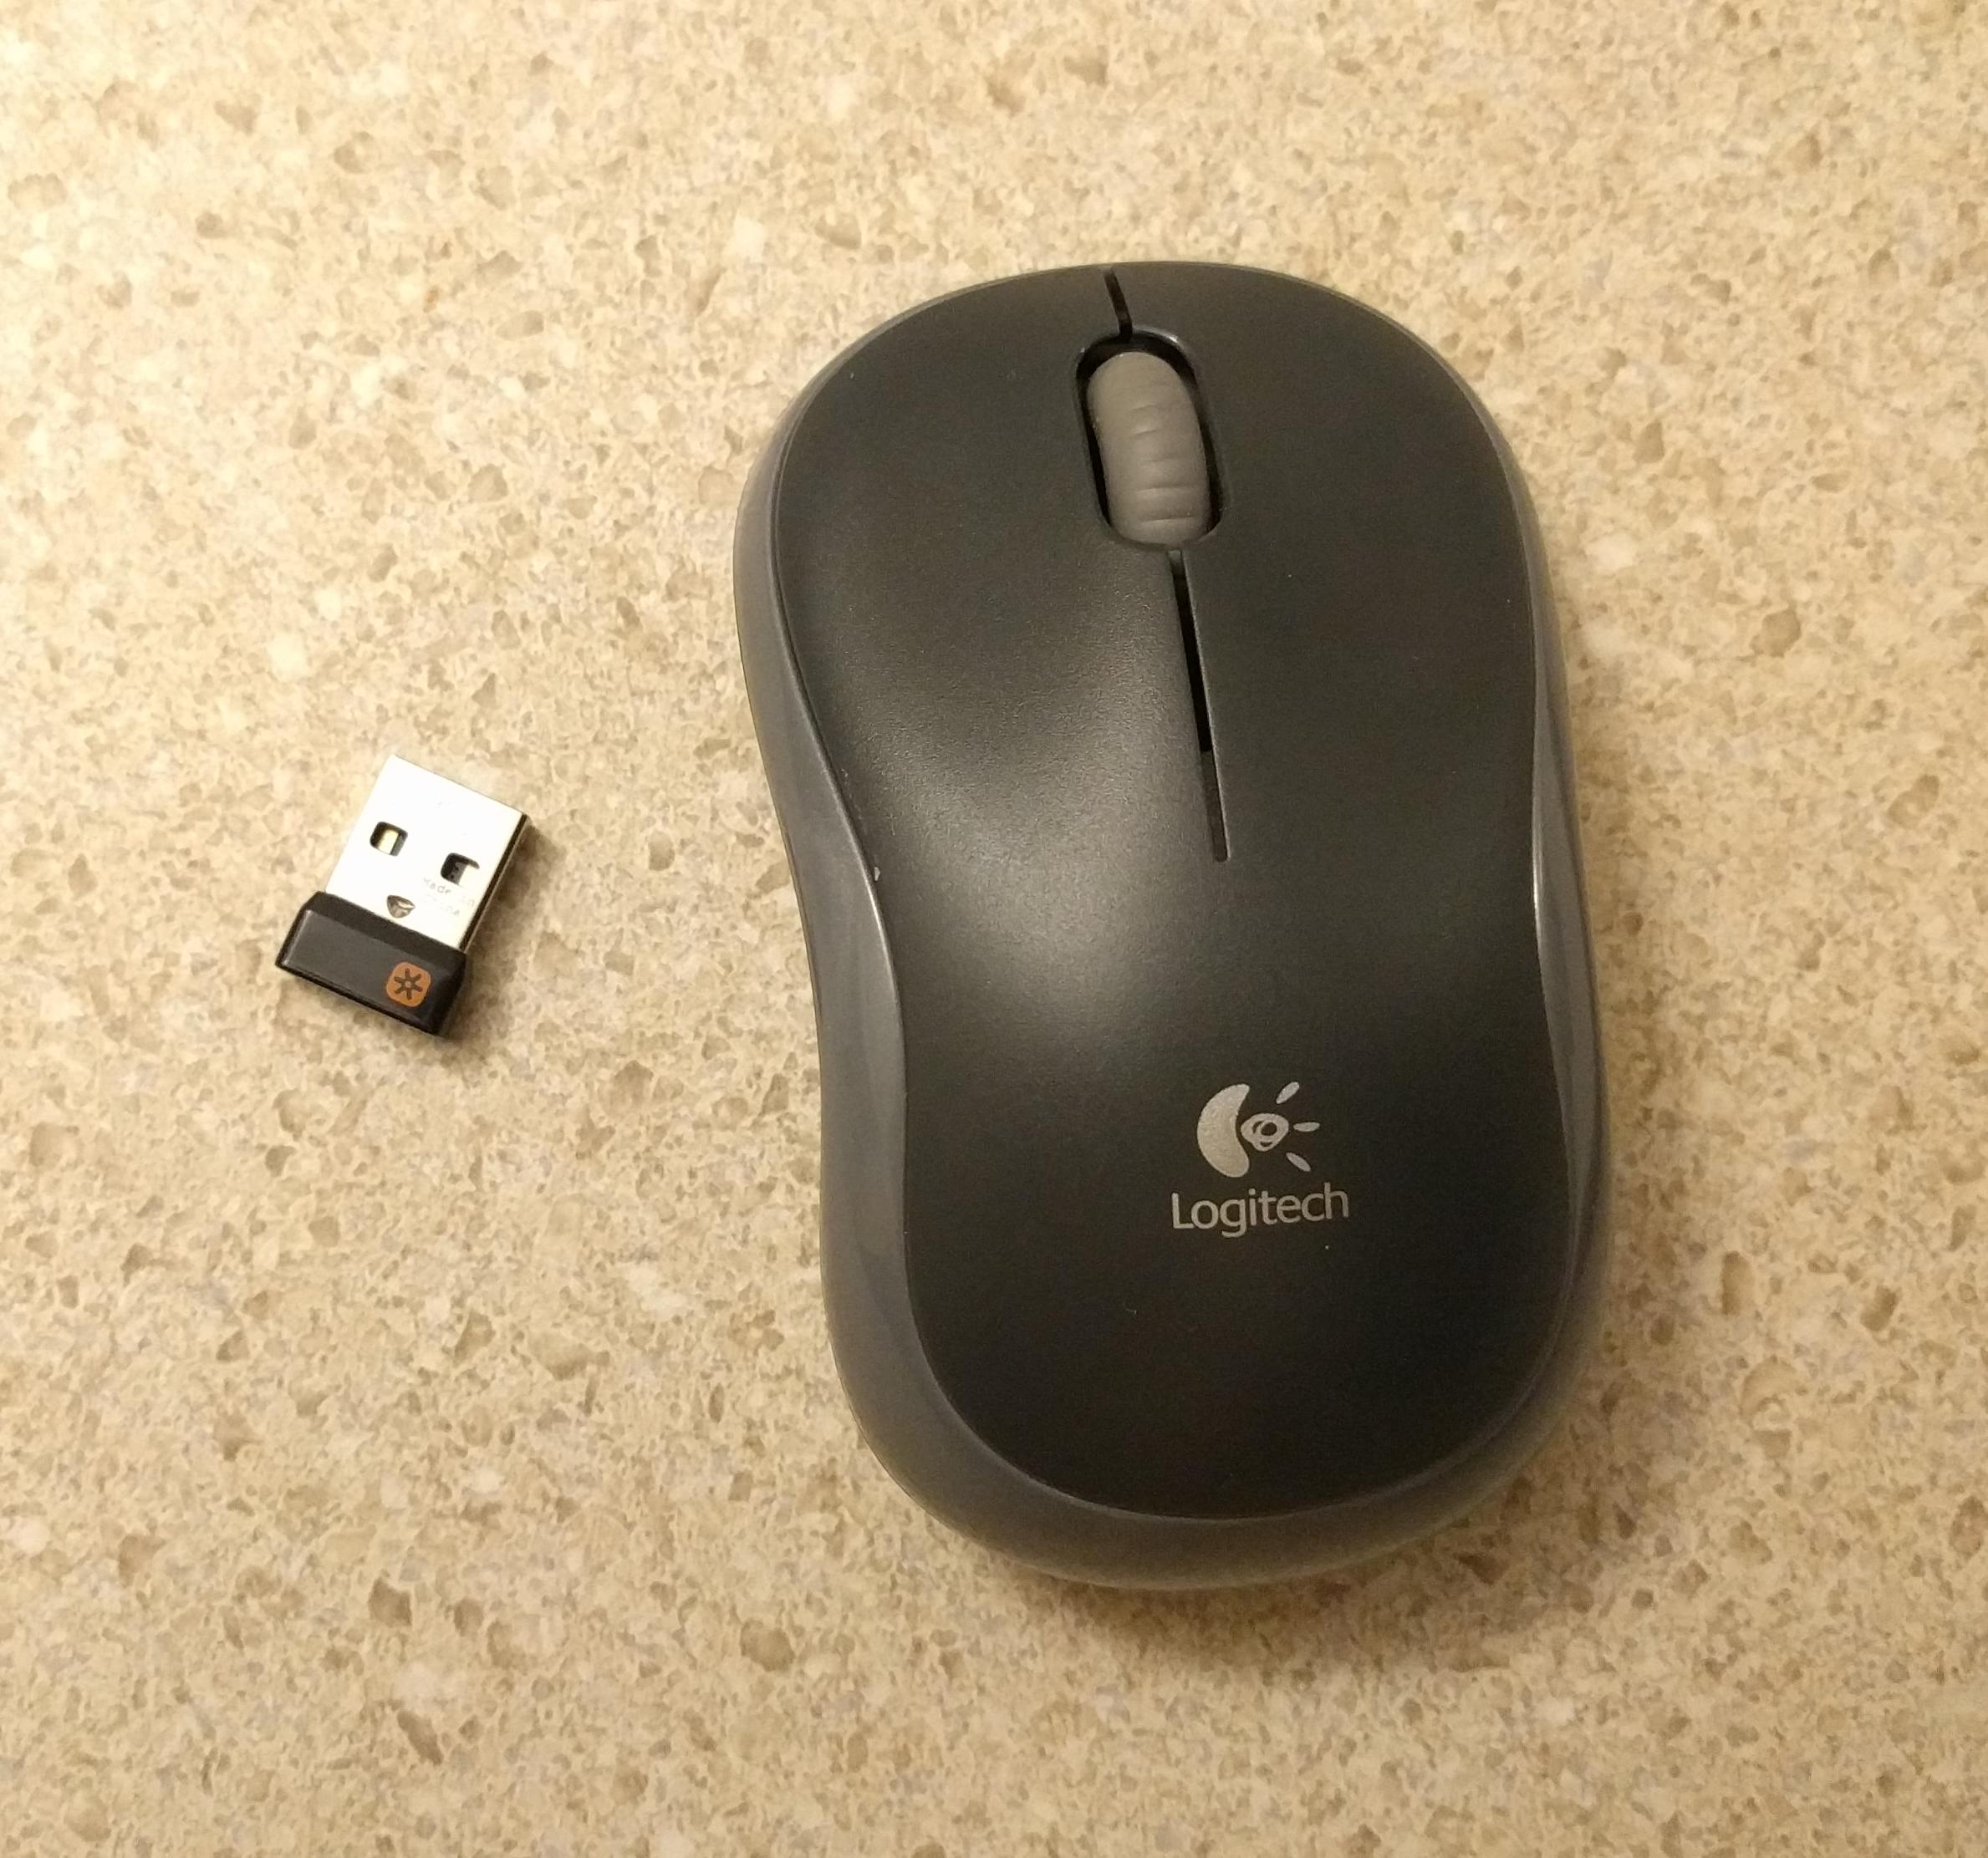logitech-mouse-m185: (744, 272, 1625, 1621)
